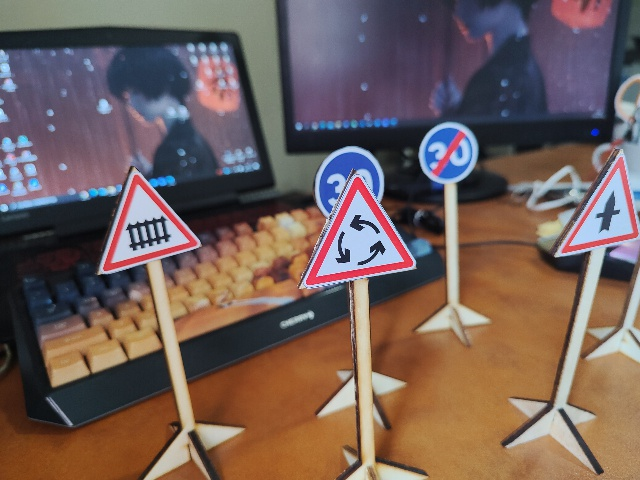ban: (417, 121, 479, 185)
cycle: (302, 185, 412, 287)
first: (555, 150, 639, 260)
thirty: (318, 145, 387, 217)
train: (95, 166, 202, 277)
